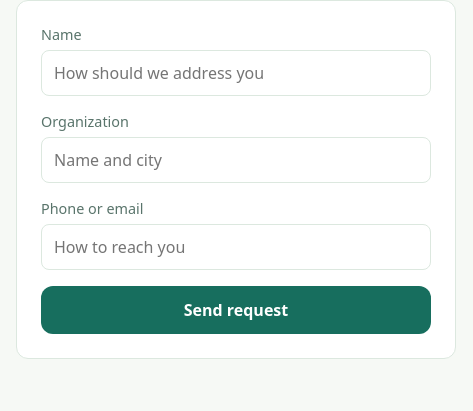
Test: preserves input and lets the visitor retry a failed request
In the field labelled "Name": (236, 73) [41,50,431,96], type "Ada"
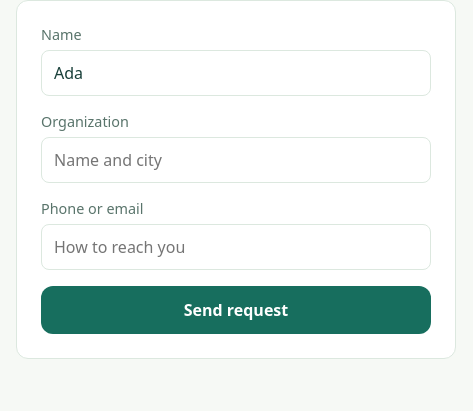
In the field labelled "Phone or email": (236, 247) [41,224,431,270], type "ada@example.com"
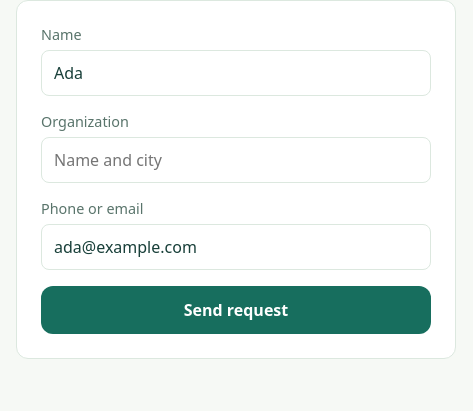
Submit the form
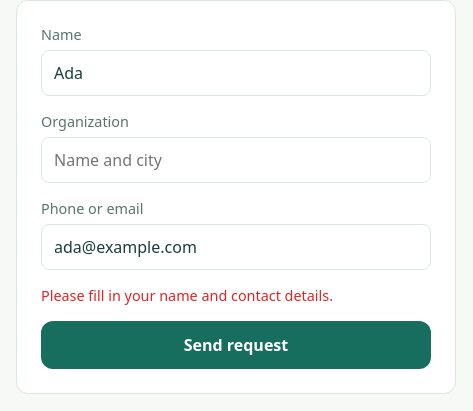
Expected: the button is enabled, [41,321,431,369]
Expected: the text "Please fill in your name and contact details." is shown, [41,286,333,305]
